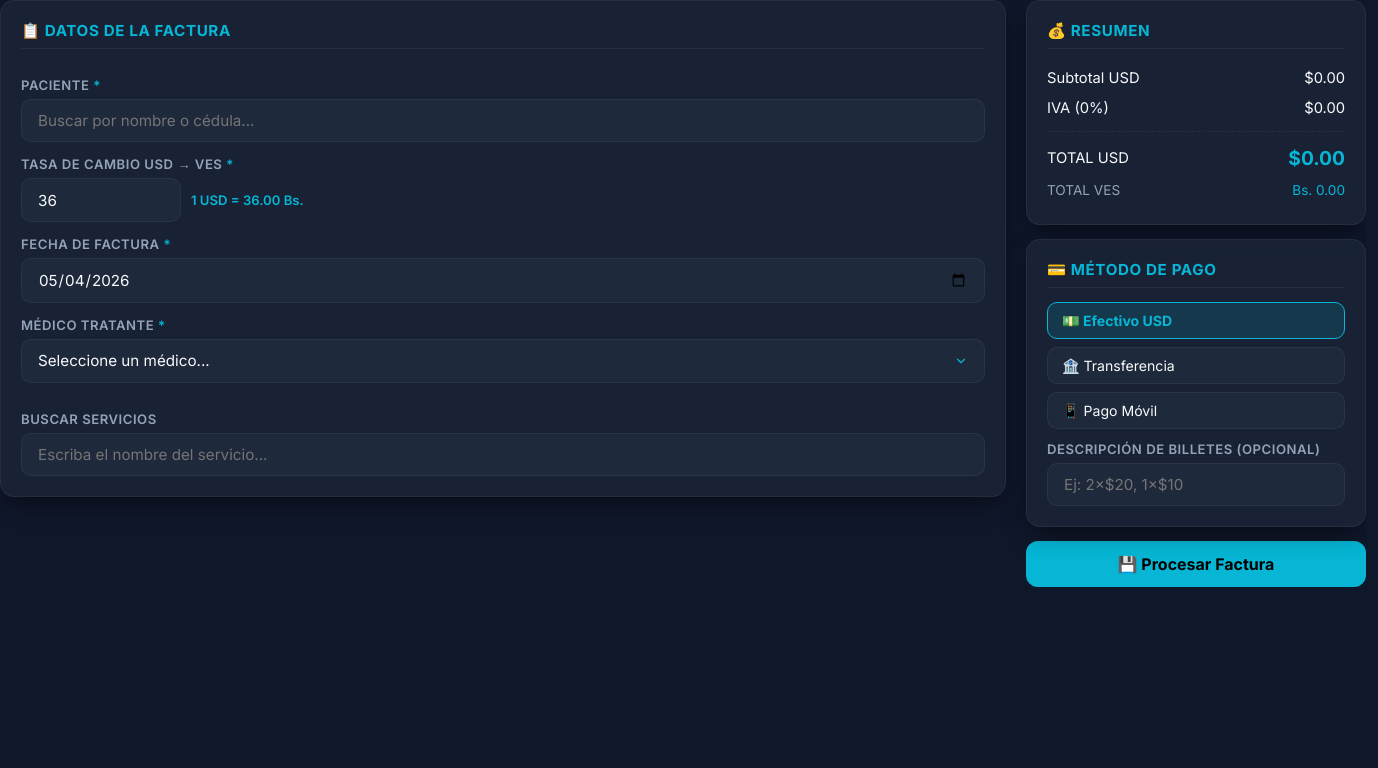
Scenario: InvoiceForm › debe mostrar campo de referencia para transferencias
Click the button "🏦 Transferencia".
click(1118, 366)  # box [1047, 347, 1345, 384]
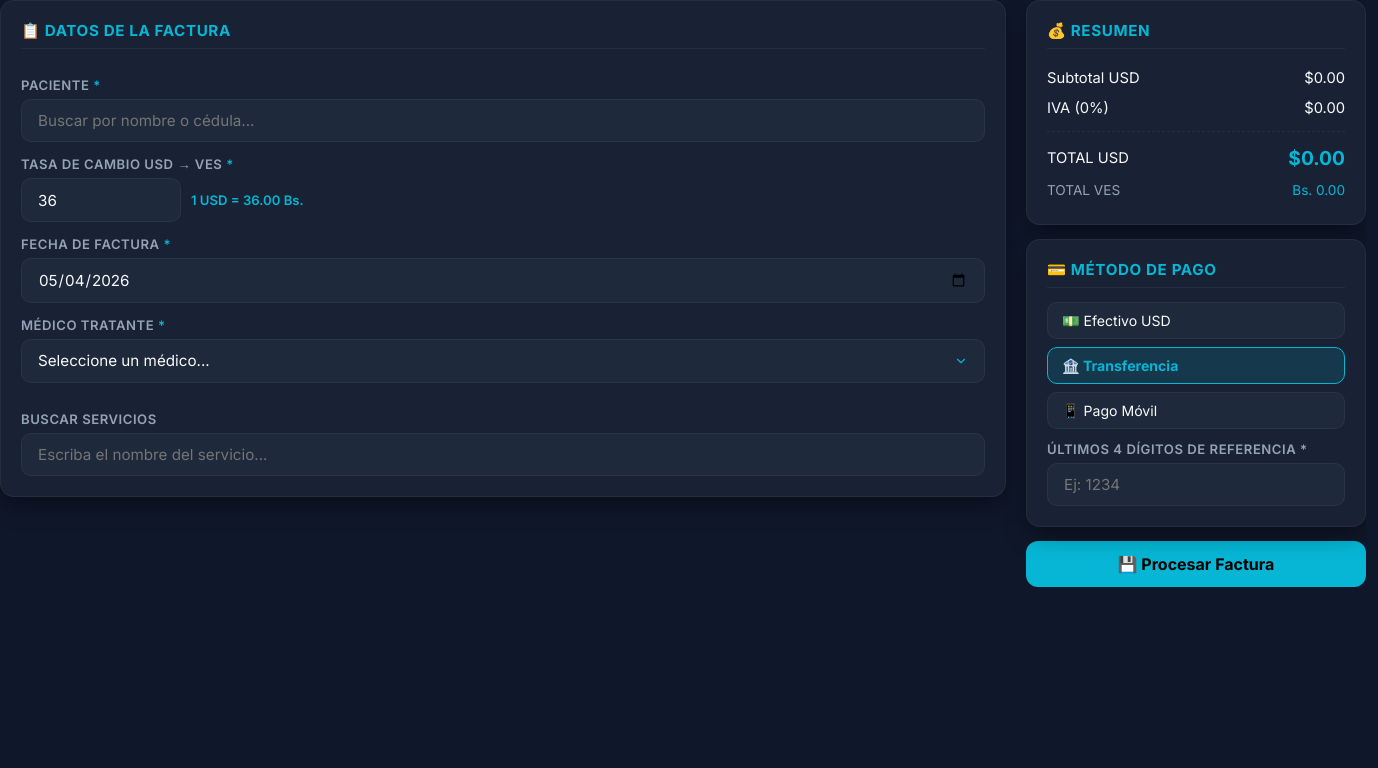
expect the text "Últimos 4 dígitos de referencia *" is shown: met, box [1047, 441, 1345, 457]
